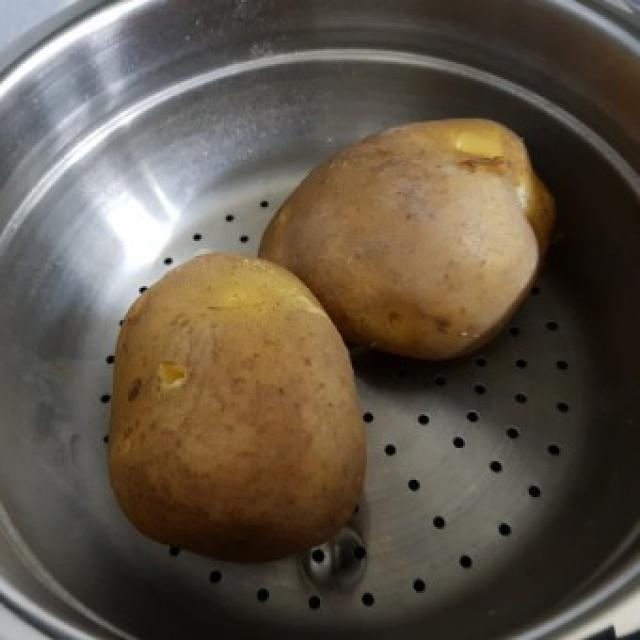potato: (105, 247, 371, 561), (250, 116, 560, 367)
